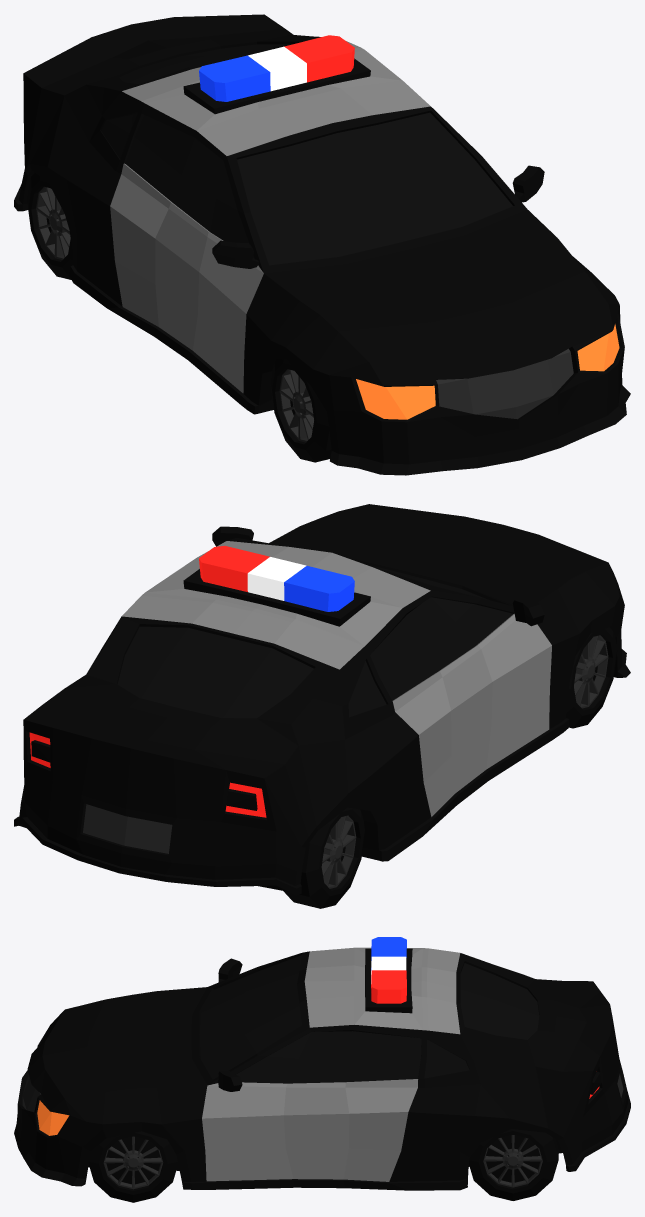
The model's file is Cop.glb.
3 renders of one model, top to bottom at view 1: azimuth 30°, elevation 25°; view 2: azimuth 150°, elevation 25°; view 3: azimuth 270°, elevation 25°, orthographic. The views are drawn at different scales.
Visible parts, largest first — view 1: Cop_Cube.001, Cop_FrontRightWheel_Cylinder.012, Cop_BackWheels_Cylinder.001; view 2: Cop_Cube.001, Cop_BackWheels_Cylinder.001, Cop_FrontRightWheel_Cylinder.012; view 3: Cop_Cube.001, Cop_BackWheels_Cylinder.001, Cop_FrontLeftWheel_Cylinder.011.
Part boxes in pixels (left/top/right/bottom): Cop_Cube.001: left=14, top=14, right=630, bottom=475; Cop_FrontRightWheel_Cylinder.012: left=270, top=358, right=331, bottom=462; Cop_BackWheels_Cylinder.001: left=27, top=173, right=73, bottom=279; Cop_Cube.001: left=14, top=504, right=630, bottom=895; Cop_BackWheels_Cylinder.001: left=283, top=807, right=364, bottom=908; Cop_FrontRightWheel_Cylinder.012: left=566, top=627, right=617, bottom=728; Cop_Cube.001: left=14, top=937, right=630, bottom=1190; Cop_BackWheels_Cylinder.001: left=469, top=1129, right=558, bottom=1200; Cop_FrontLeftWheel_Cylinder.011: left=88, top=1131, right=178, bottom=1202.
Size of the model in its own units: 1.78 by 1.24 by 3.73.
